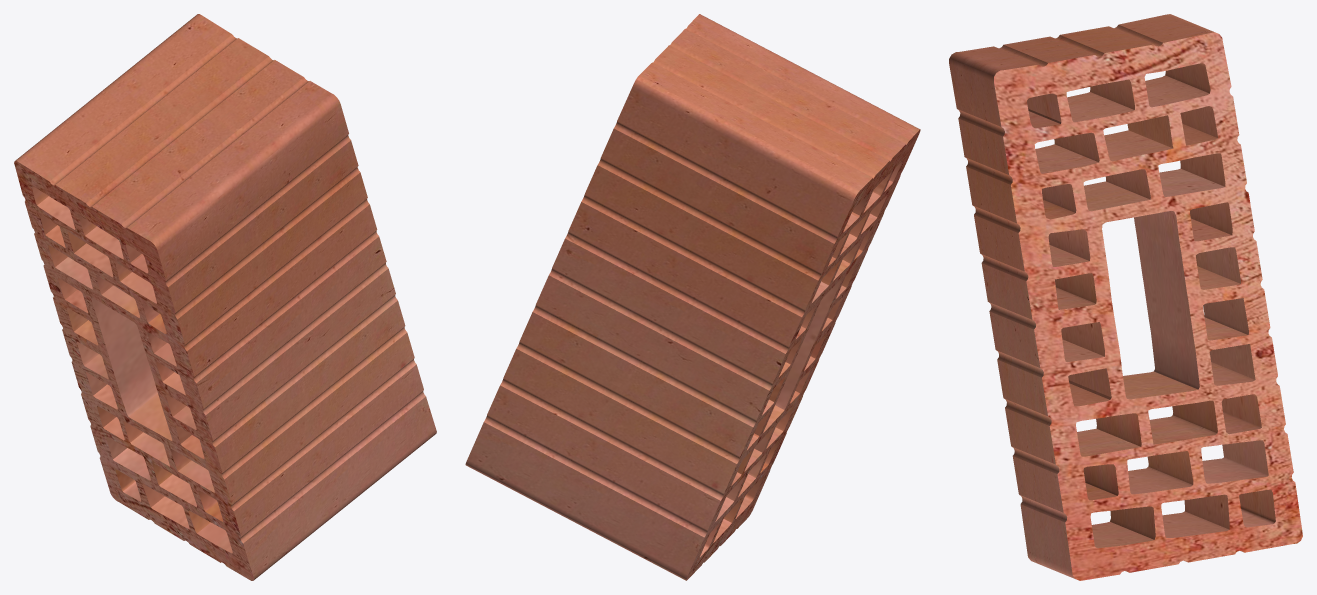
Rendered from brick.dae.
3 views of the same model, side by side, from view 1: azimuth 30°, elevation 25°; view 2: azimuth 150°, elevation 25°; view 3: azimuth 270°, elevation 25° (orthographic). The views are drawn at different scales.
Visible parts, largest first — view 1: brick1_002; view 2: brick1_002; view 3: brick1_002.
Boxes of the visible parts, left/top/right/bottom form: brick1_002: left=14, top=14, right=436, bottom=580; brick1_002: left=465, top=14, right=920, bottom=580; brick1_002: left=949, top=14, right=1302, bottom=580.
Size of the model in its own units: 1.82 by 1.35 by 2.3.
1 material, 1 textured.
